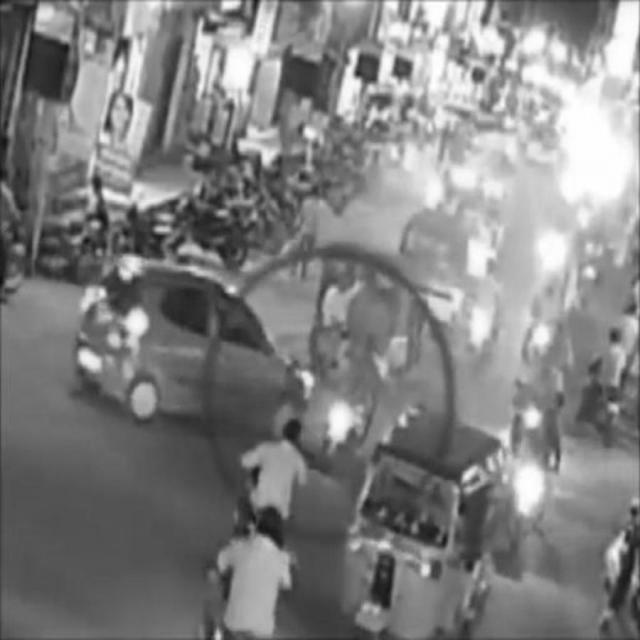vehicle: (68, 258, 316, 428), (339, 414, 506, 640), (316, 246, 422, 396), (319, 328, 379, 460), (241, 418, 302, 546), (572, 327, 626, 445)
